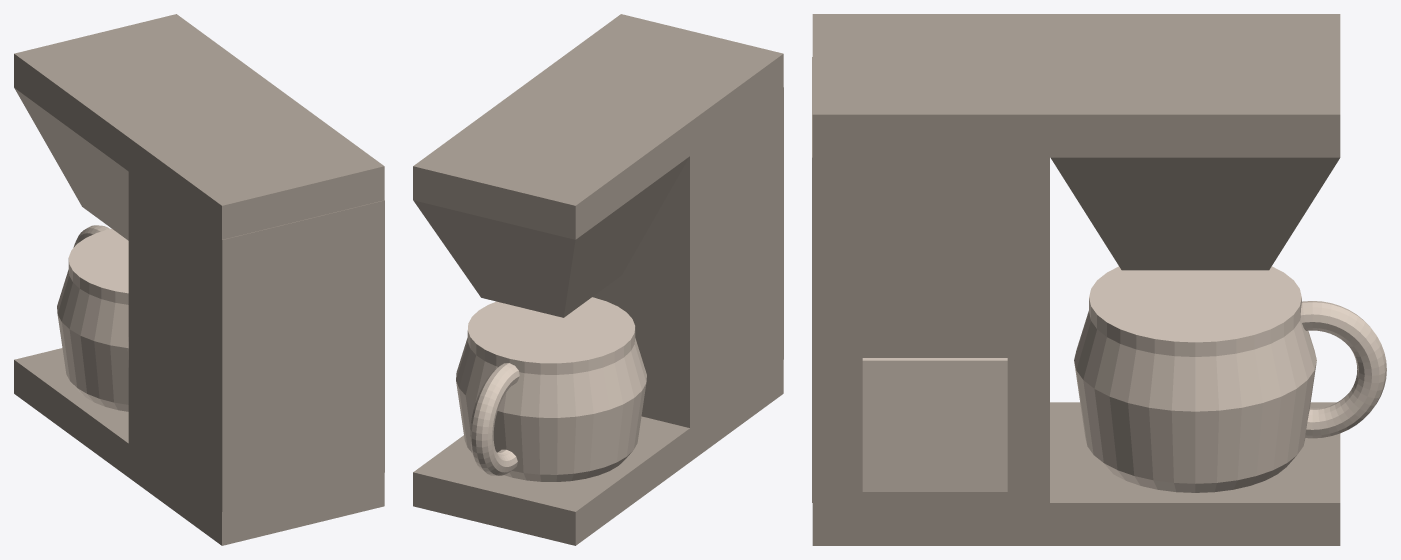
The model's file is koffiezetmachine.glb.
The picture shows the model from 3 angles, left to right: view 1: azimuth 30°, elevation 25°; view 2: azimuth 150°, elevation 25°; view 3: azimuth 270°, elevation 25°; orthographic projection. The views are drawn at different scales.
Parts seen in each view (by area): view 1: Cube.003, Cube.002, Cube.001, Cylinder; view 2: Cube.003, Cylinder, Cube.002, Cube.001; view 3: Cube.003, Cylinder, Cube.001, Cube.002, Cube.
Boxes of the visible parts, x1,y1,x2,y2 form: Cube.003: [14, 14, 384, 375]; Cube.002: [128, 308, 384, 511]; Cube.001: [14, 348, 384, 545]; Cylinder: [57, 225, 128, 411]; Cube.003: [413, 14, 783, 317]; Cylinder: [456, 297, 646, 481]; Cube.002: [592, 223, 783, 427]; Cube.001: [413, 360, 783, 545]; Cube.003: [812, 14, 1340, 330]; Cylinder: [1074, 266, 1386, 492]; Cube.001: [812, 402, 1340, 545]; Cube.002: [812, 330, 1049, 502]; Cube: [862, 358, 1007, 491].
Size of the model in its own units: 2.08 by 4 by 4.83.
